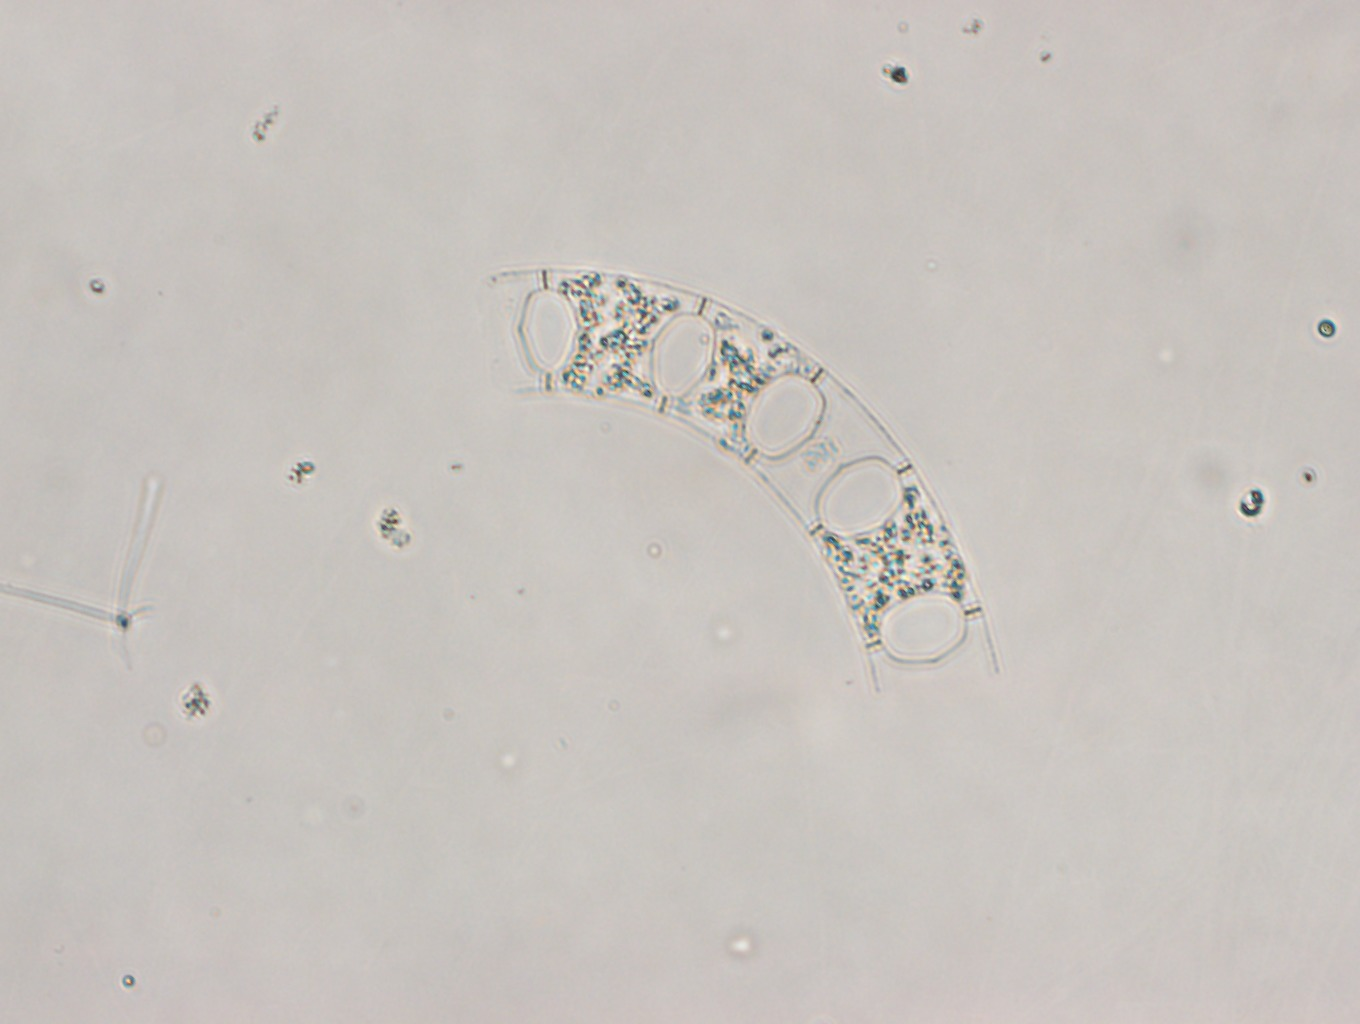eucampia: (491, 268, 1000, 691)
